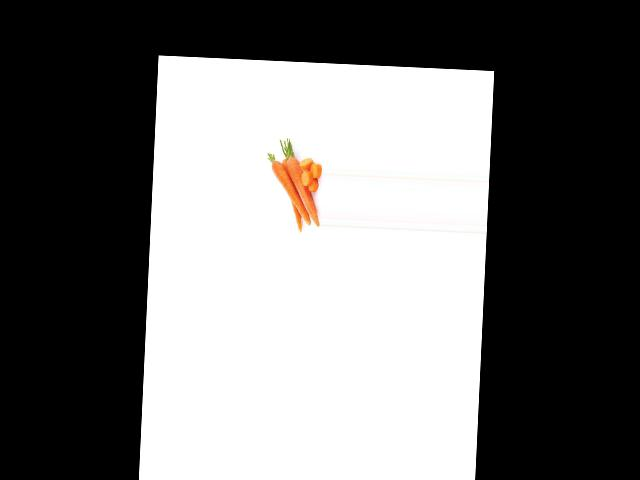carrot: (282, 149, 323, 226)
